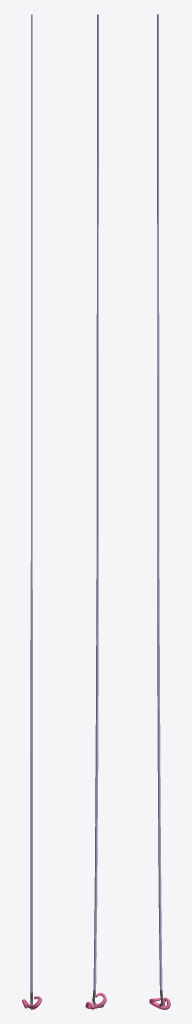
Rendered from hook.glb.
3 renders of one model, left to right at view 1: azimuth 90°, elevation 25°; view 2: azimuth 150°, elevation 25°; view 3: azimuth 330°, elevation 25°, orthographic.
Visible parts, largest first — view 1: Cube, BezierCurve; view 2: Cube, BezierCurve; view 3: Cube, BezierCurve.
Part boxes in pixels (x1=…): Cube: x1=30, y1=14, x2=32, y2=1009; BezierCurve: x1=22, y1=996, x2=41, y2=1009; Cube: x1=92, y1=14, x2=103, y2=1007; BezierCurve: x1=85, y1=992, x2=106, y2=1009; Cube: x1=157, y1=14, x2=163, y2=1006; BezierCurve: x1=149, y1=997, x2=170, y2=1009.
Bounding box in the file's own units: 0.2539 × 15.72 × 0.2871.
